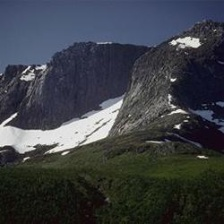neutral: (2, 5, 222, 224)
